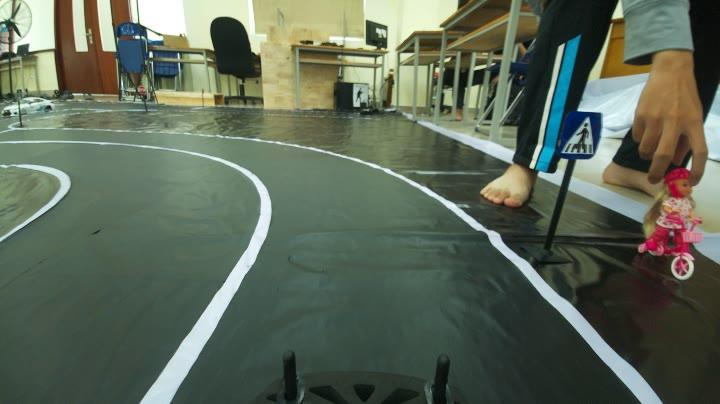crosswalk: (558, 110, 604, 162)
